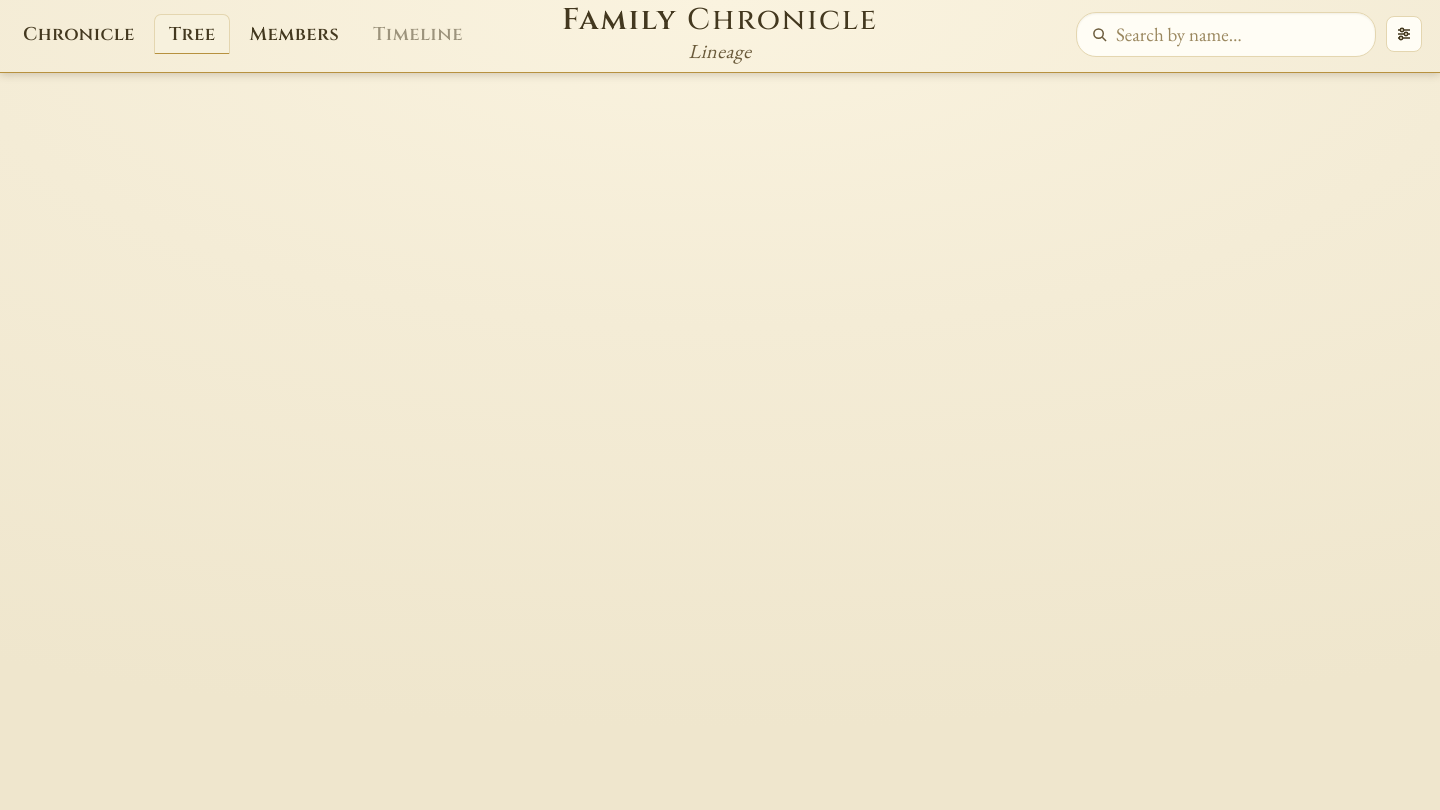
Test: AppBar › hosts language, theme and orientation inside the settings popover
The width and height of the screenshot is (1440, 810).
Step 1. Click the button with test id "settings-menu-toggle" → (1404, 34), box left=1386, top=16, right=1422, bottom=52
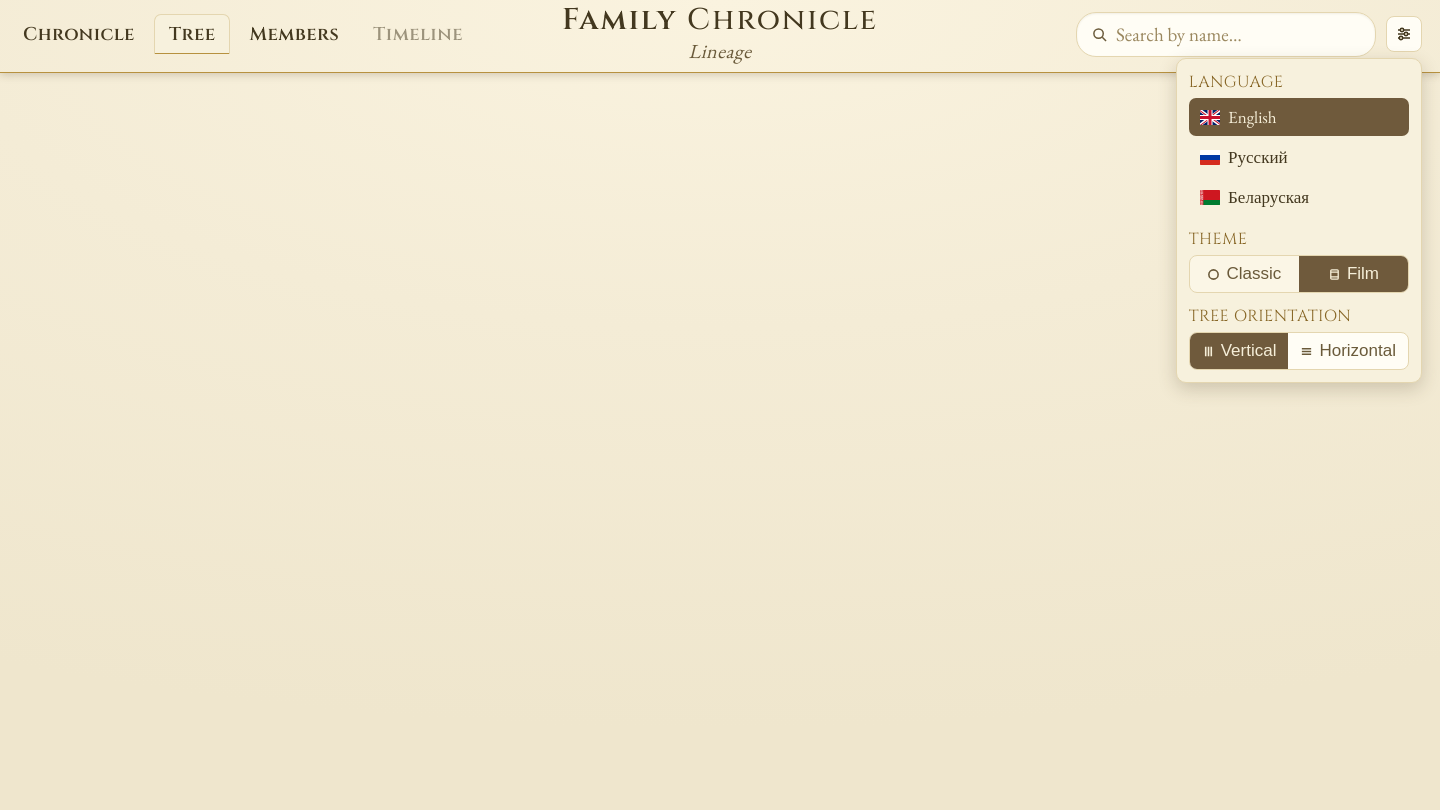
Expected: the element with test id "orientation-toggle" is shown, left=1189, top=332, right=1409, bottom=370
Expected: the element with test id "theme-toggle" is shown, left=1189, top=255, right=1409, bottom=293
Expected: the number of radio buttons with test id "settings-language-option" is 3, left=1189, top=98, right=1409, bottom=136; left=1189, top=138, right=1409, bottom=176; left=1189, top=178, right=1409, bottom=216
